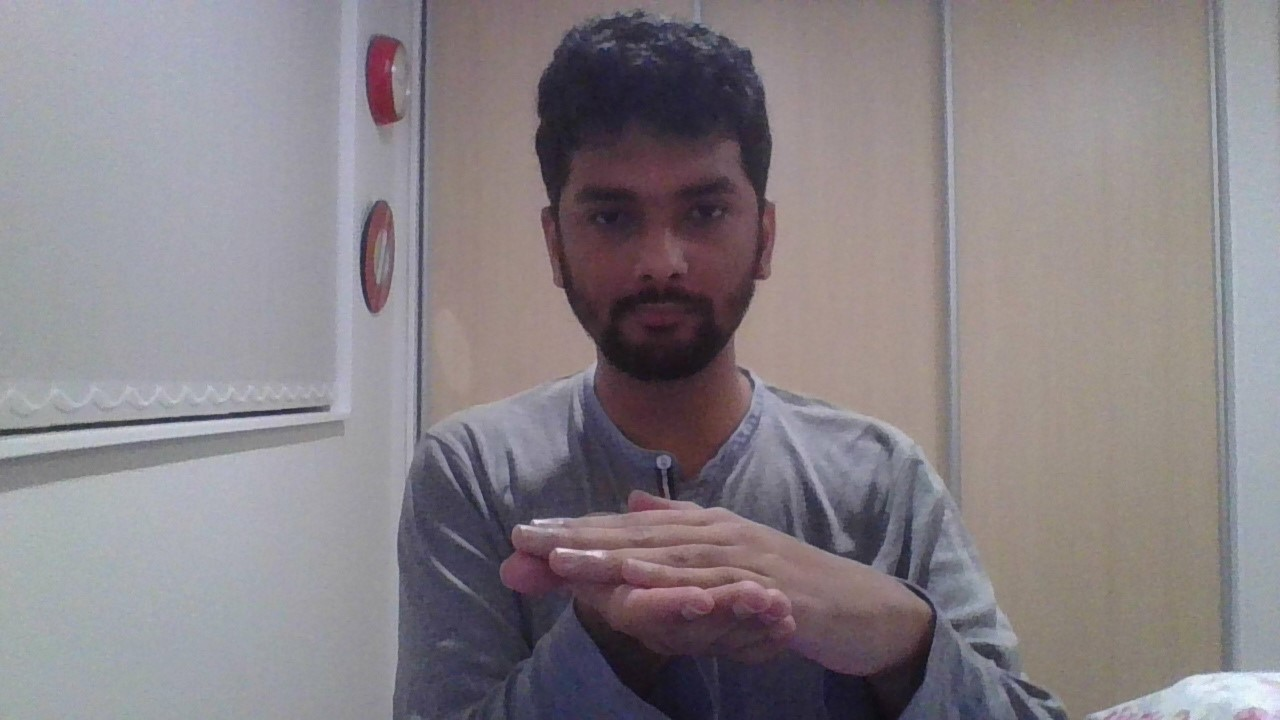clear: (498, 491, 905, 678)
